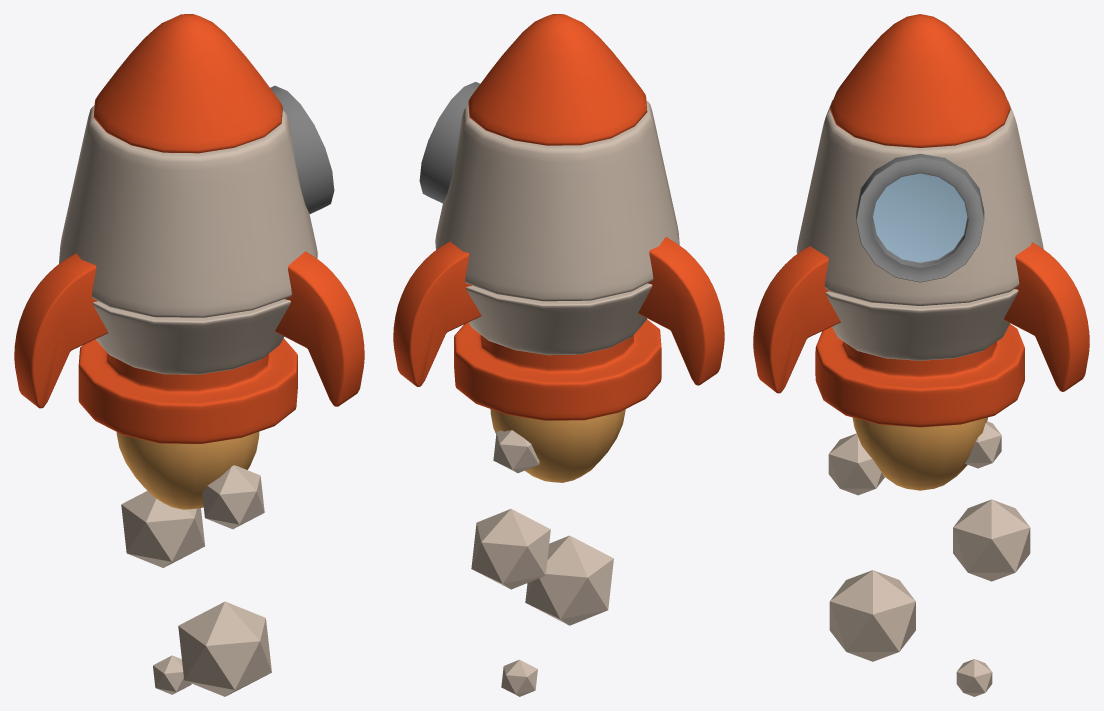
Rendered from spaceship2.glb.
3 views of the same model, side by side, from view 1: azimuth 30°, elevation 25°; view 2: azimuth 150°, elevation 25°; view 3: azimuth 270°, elevation 25° (orthographic). The views are drawn at different scales.
Parts seen in each view (by area): view 1: rocked, Icosphere, rocked.001; view 2: rocked, Icosphere, rocked.001; view 3: rocked, Icosphere, rocked.001.
Part boxes in pixels (x1=…): rocked: x1=14, y1=14, x2=364, y2=443; Icosphere: x1=121, y1=465, x2=271, y2=696; rocked.001: x1=116, y1=431, x2=259, y2=509; rocked: x1=393, y1=14, x2=724, y2=420; Icosphere: x1=471, y1=430, x2=613, y2=696; rocked.001: x1=490, y1=409, x2=625, y2=482; rocked: x1=753, y1=14, x2=1089, y2=427; Icosphere: x1=828, y1=421, x2=1030, y2=696; rocked.001: x1=852, y1=417, x2=987, y2=490.
Bounding box in the file's own units: 1.28 × 2.96 × 1.34.
